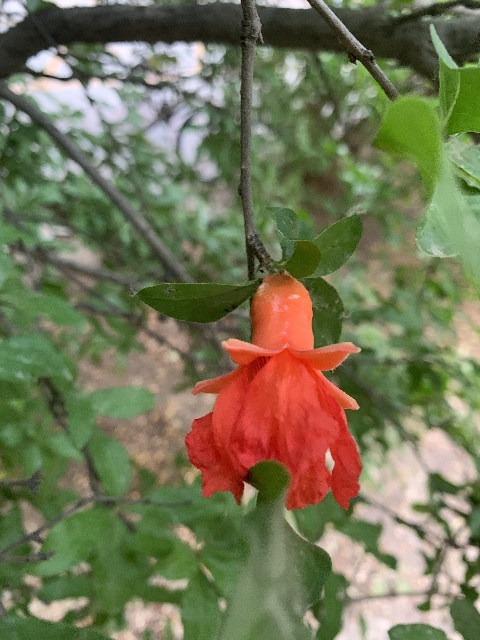flower: (185, 274, 363, 513)
